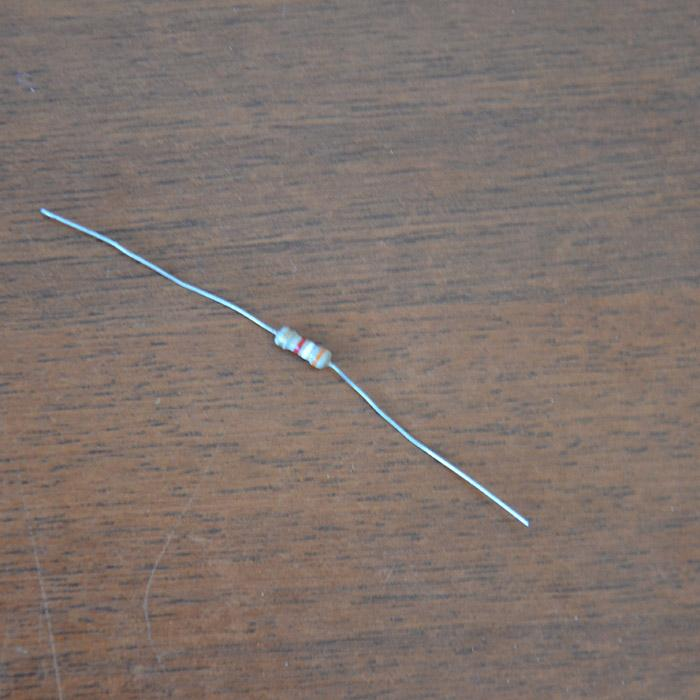resistor: (272, 323, 331, 370)
